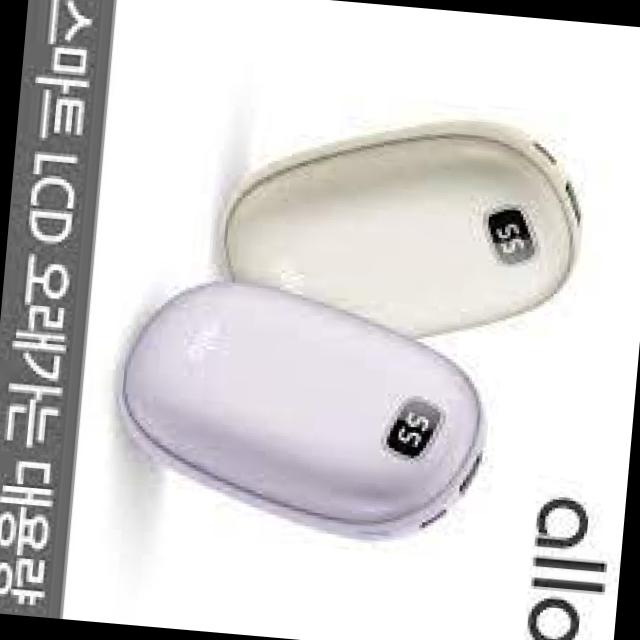portable-charger: (106, 266, 500, 548), (215, 106, 596, 360)
